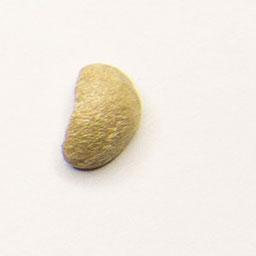defect: (54, 57, 145, 176)
